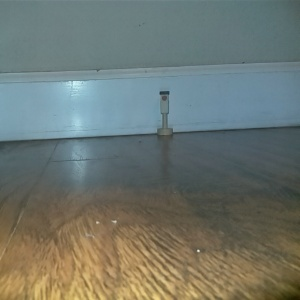traffic light red: (155, 90, 174, 137)
